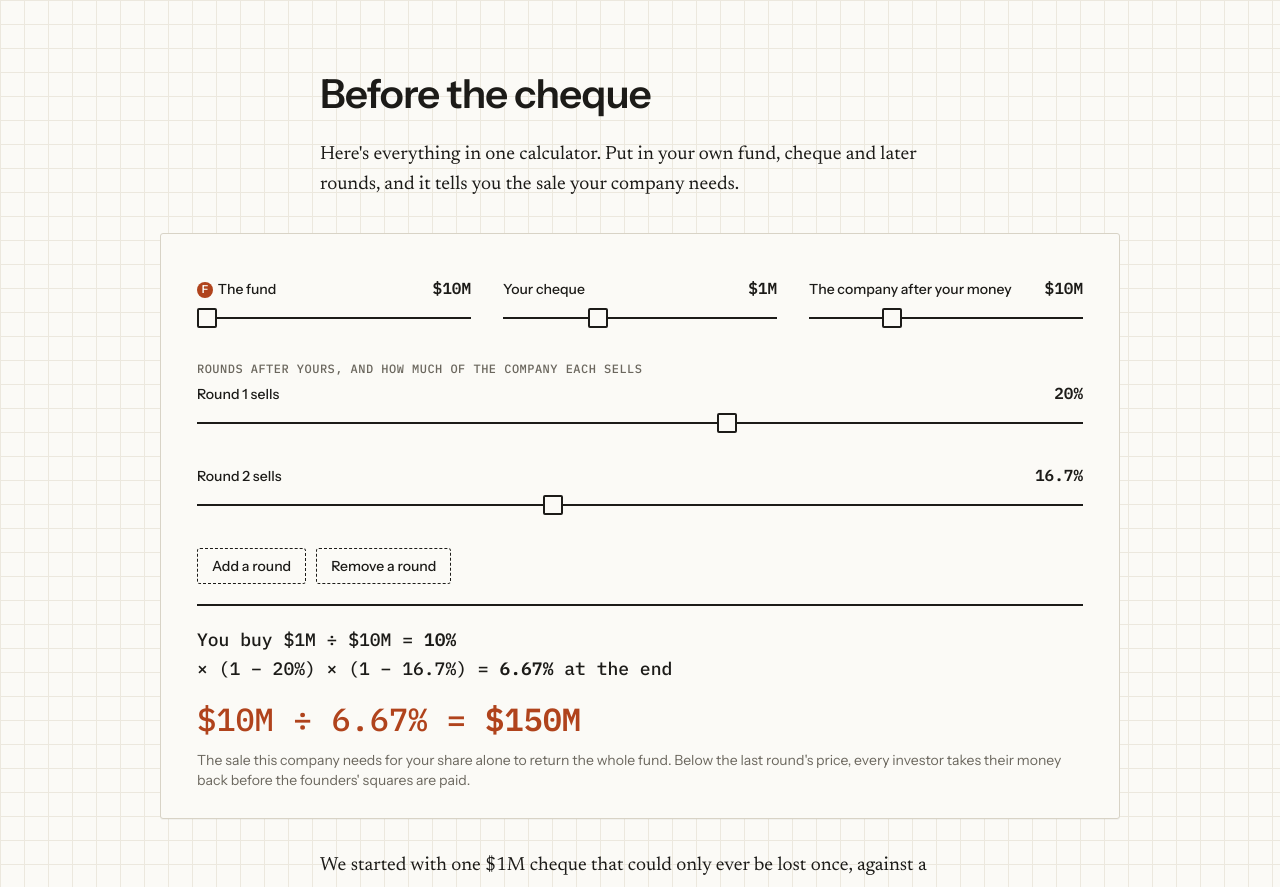
The napkin › never lets the cheque be bigger than the company
Set the slider labelled "Your cheque" to "6" at x=769, y=318, box [503,304,777,332]
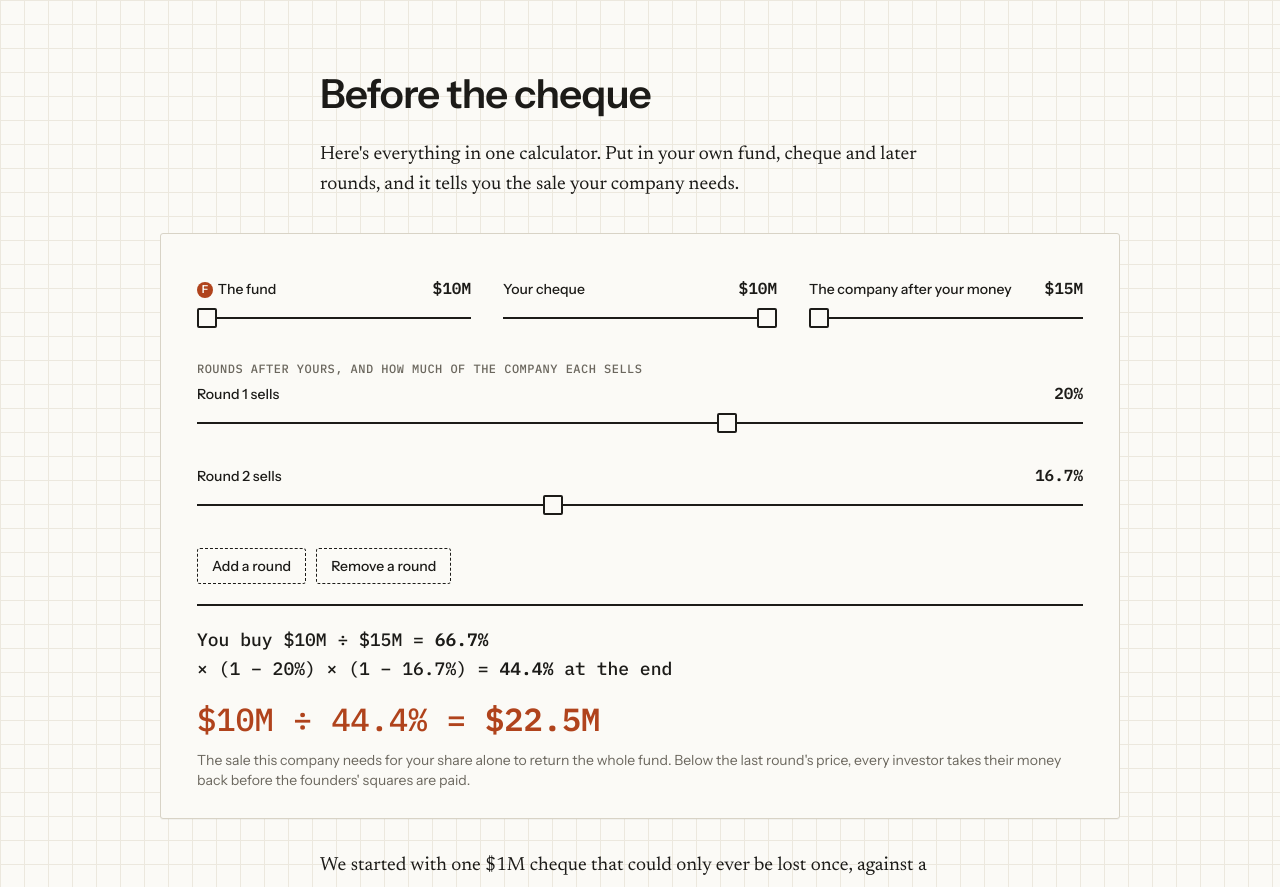
Expected: the slider labelled "The company after your money" has attribute aria-valuetext="$15M", [809,304,1083,332]
